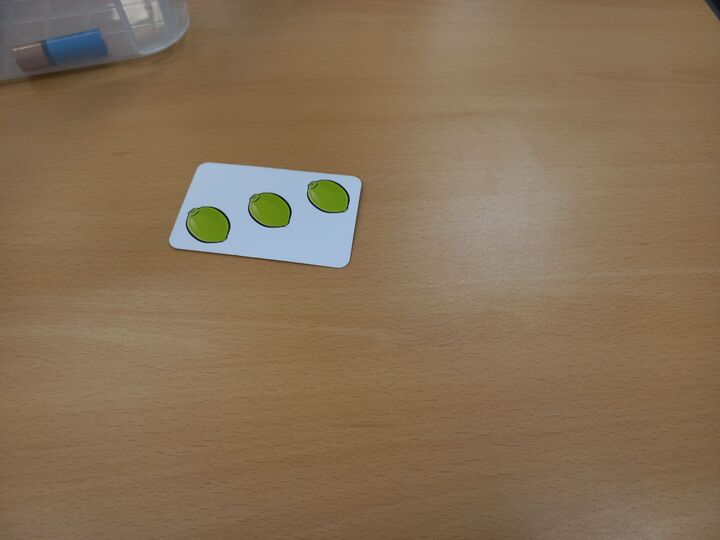lime3: (167, 160, 365, 271)
